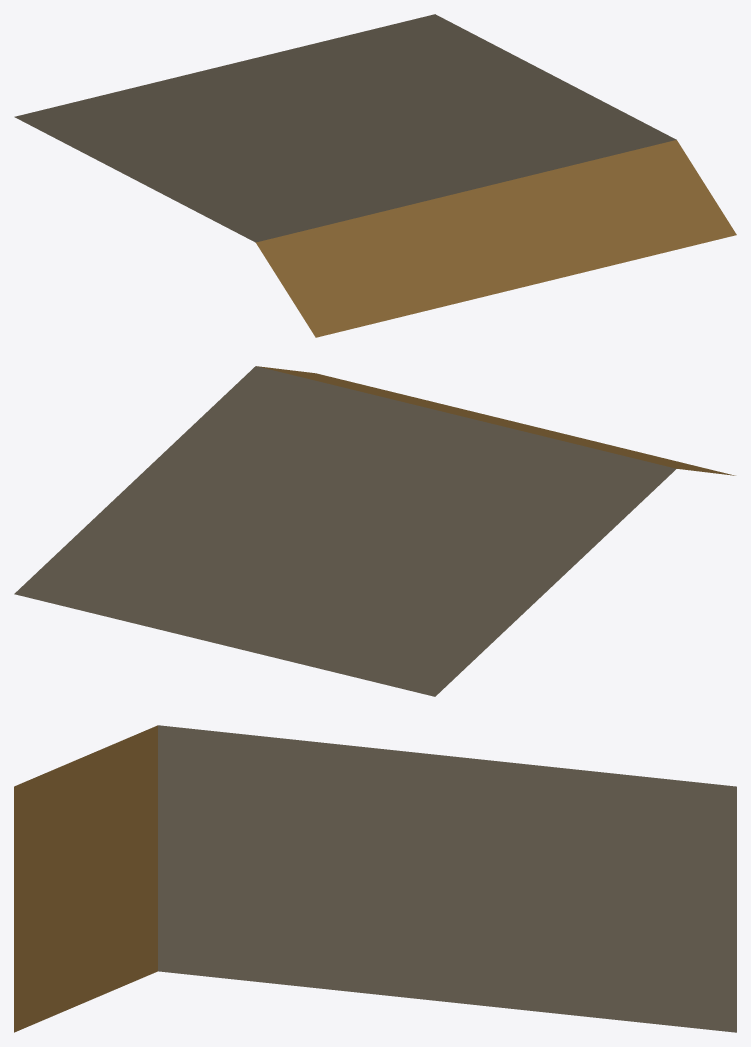
Rendered from SF_Env_SwampEdge_Straight_03.fbx.
The picture shows the model from 3 angles, top to bottom: view 1: azimuth 30°, elevation 25°; view 2: azimuth 150°, elevation 25°; view 3: azimuth 270°, elevation 25°; orthographic projection. The views are drawn at different scales.
Parts seen in each view (by area): view 1: SF_Env_SwampEdge_Straight_03; view 2: SF_Env_SwampEdge_Straight_03; view 3: SF_Env_SwampEdge_Straight_03.
Boxes of the visible parts, x1,y1,x2,y2 form: SF_Env_SwampEdge_Straight_03: (14,14,736,337); SF_Env_SwampEdge_Straight_03: (14,366,735,696); SF_Env_SwampEdge_Straight_03: (14,725,736,1032).
Size of the model in its own units: 7.34 by 0.8528 by 9.11.
